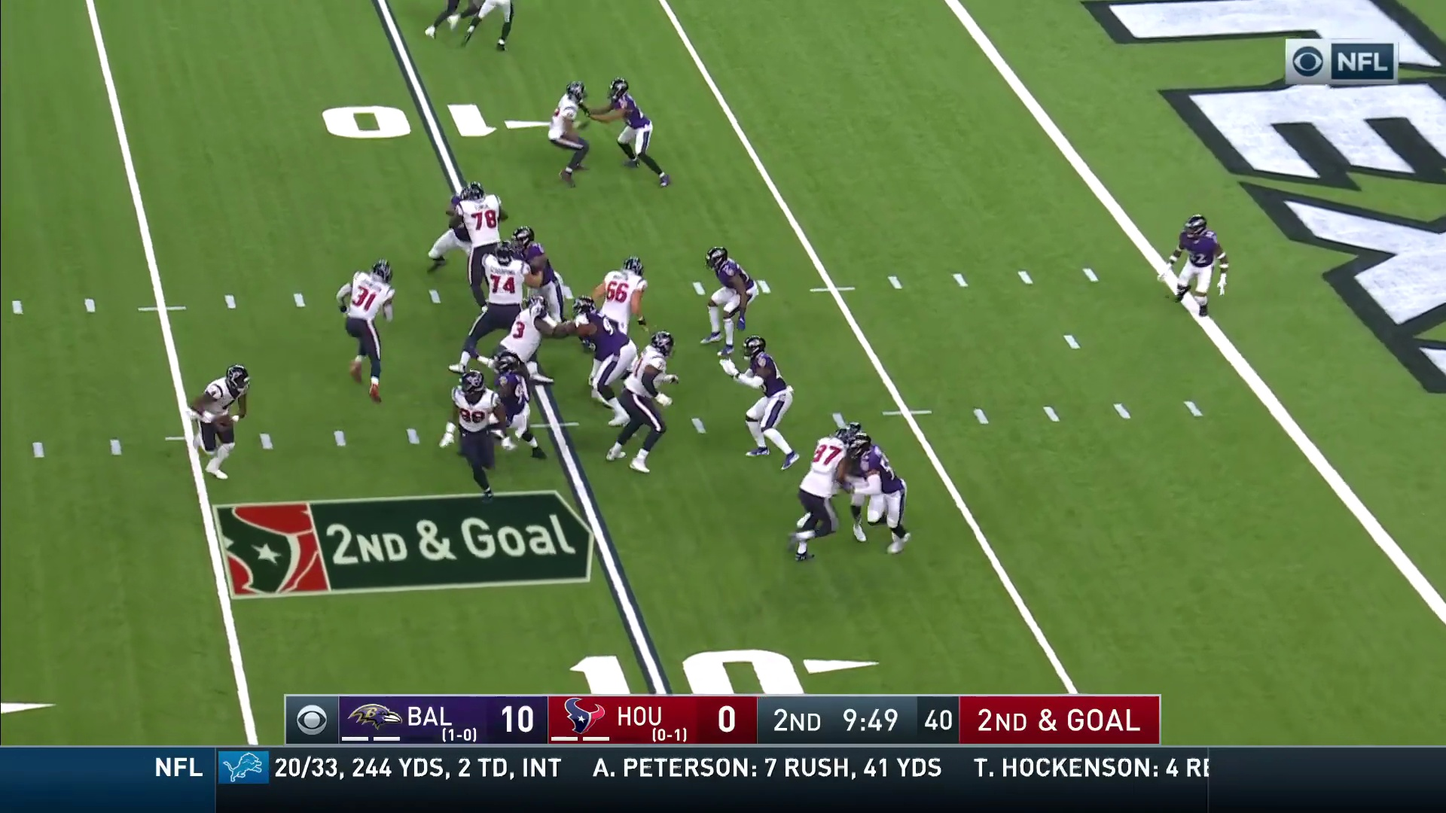Player: (339, 261, 393, 403), (620, 332, 674, 471), (849, 427, 907, 552), (743, 335, 795, 465), (792, 432, 845, 559), (452, 366, 501, 496), (193, 365, 248, 477), (1169, 214, 1227, 318), (593, 256, 645, 370), (575, 297, 632, 399), (703, 246, 756, 350), (491, 326, 536, 442), (514, 226, 562, 329), (454, 182, 500, 289), (549, 81, 590, 184), (842, 423, 876, 541), (482, 240, 525, 328)
